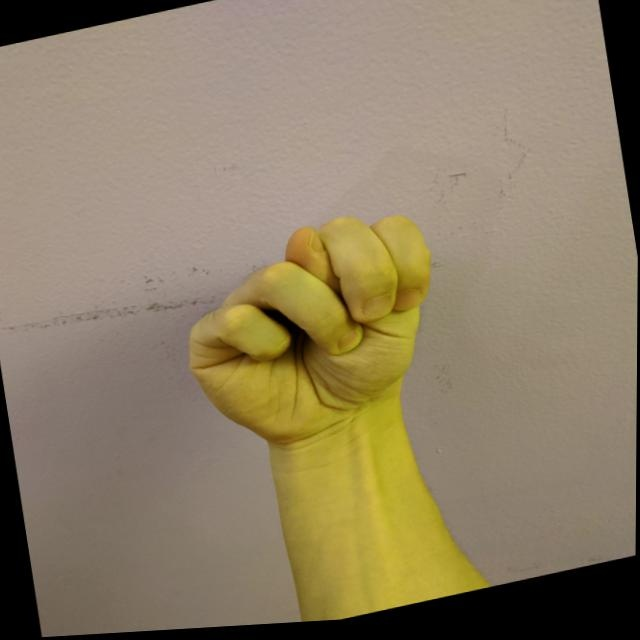N: (162, 196, 463, 471)
